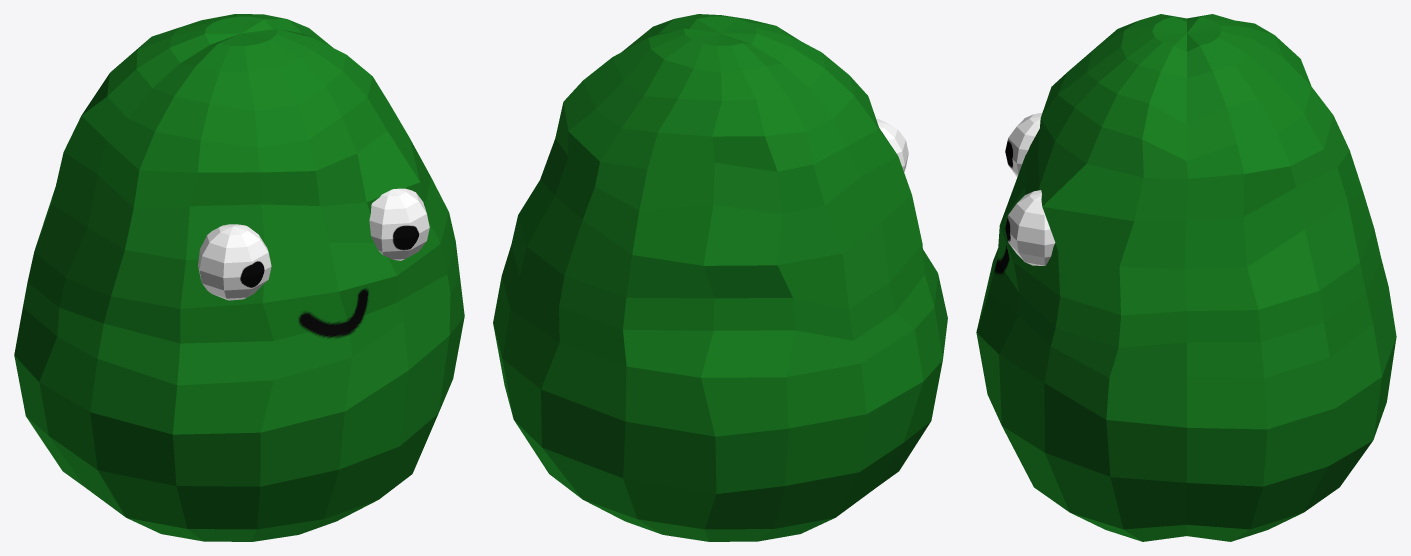
Rendered from Wall-nut.fbx.
3 renders of one model, left to right at view 1: azimuth 30°, elevation 25°; view 2: azimuth 150°, elevation 25°; view 3: azimuth 270°, elevation 25°, orthographic.
Visible parts, largest first — view 1: Sphere, Sphere.001; view 2: Sphere, Sphere.001; view 3: Sphere, Sphere.001.
Boxes of the visible parts, x1,y1,x2,y2 form: Sphere: [14, 14, 464, 541]; Sphere.001: [198, 188, 429, 300]; Sphere: [493, 14, 947, 541]; Sphere.001: [876, 119, 908, 172]; Sphere: [976, 14, 1396, 541]; Sphere.001: [1005, 113, 1055, 265].
Bounding box in the file's own units: 167 × 192 × 152.
1 material, 1 textured.
